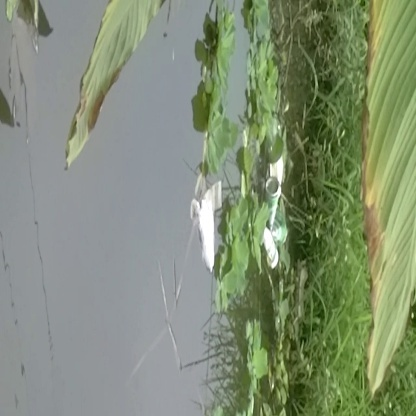leaf: (70, 2, 162, 172)
